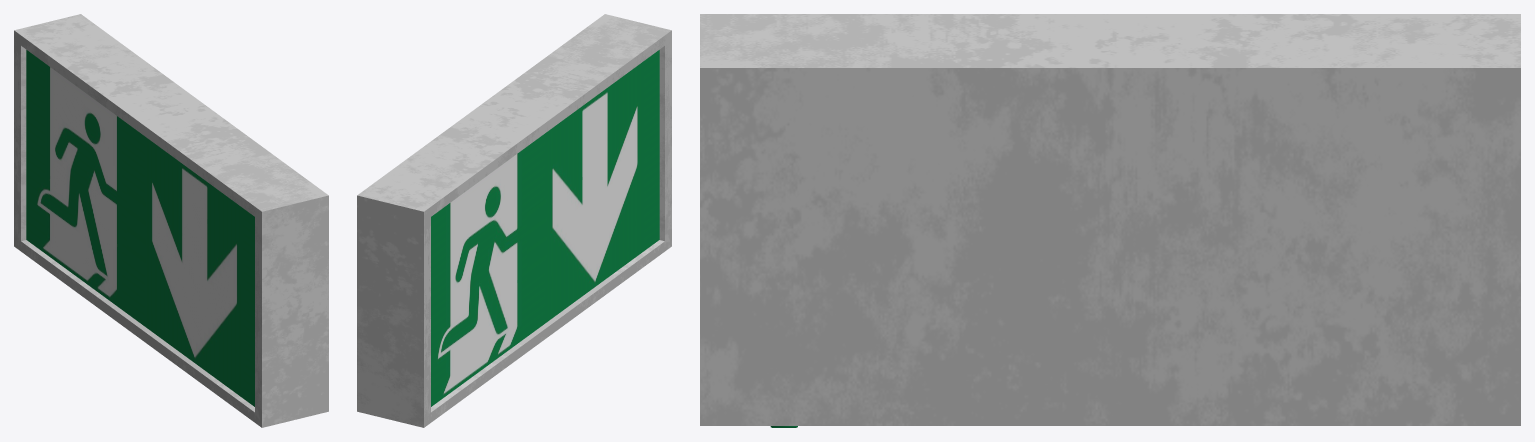
File: SM_Exit_Sign.fbx
3 renders of one model, left to right at view 1: azimuth 30°, elevation 25°; view 2: azimuth 150°, elevation 25°; view 3: azimuth 270°, elevation 25°, orthographic. The views are drawn at different scales.
Visible parts, largest first — view 1: SM_Exit_Sign; view 2: SM_Exit_Sign; view 3: SM_Exit_Sign.
Part boxes in pixels (x1=…): SM_Exit_Sign: x1=14, y1=14, x2=328, y2=427; SM_Exit_Sign: x1=357, y1=14, x2=671, y2=427; SM_Exit_Sign: x1=700, y1=14, x2=1520, y2=427.
Bounding box in the file's own units: 7.18 × 46.09 × 23.29.
1 material, 1 textured.
